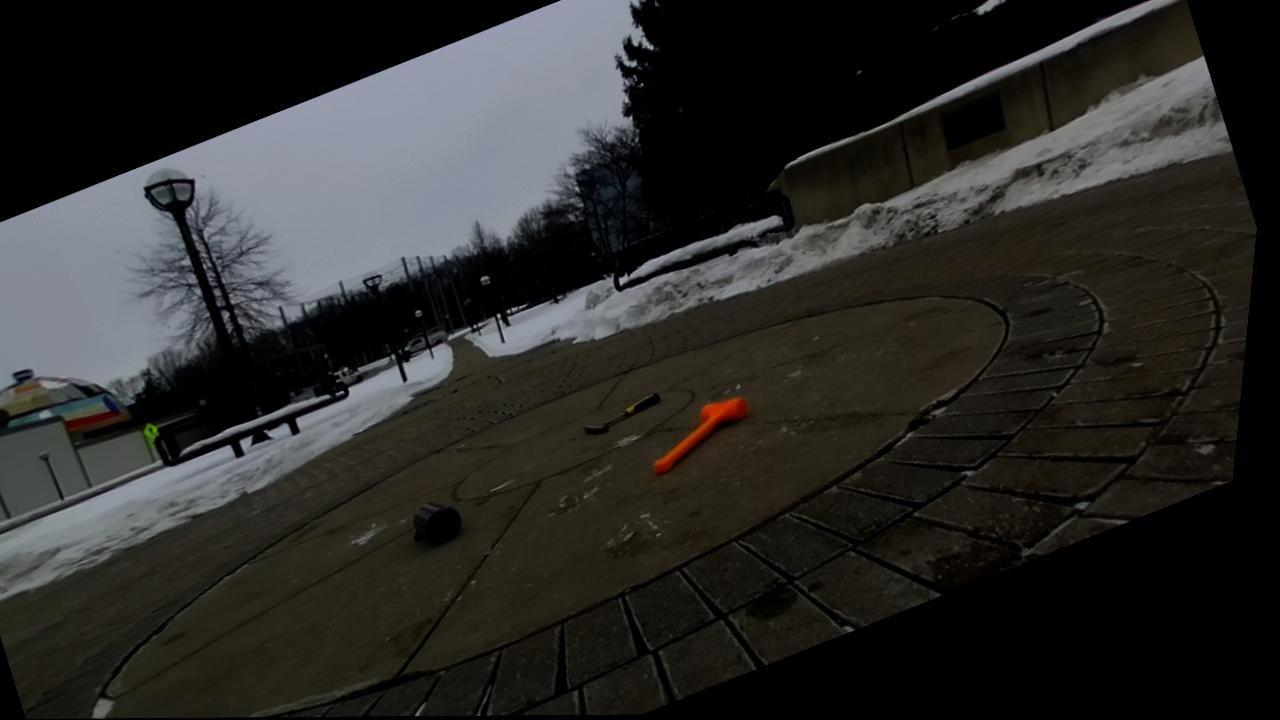bottle: (413, 502, 461, 541)
mallet: (654, 397, 746, 473)
pick: (585, 393, 658, 433)
